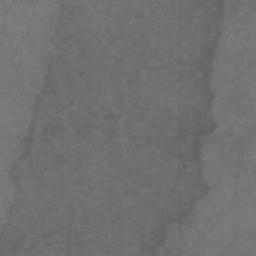Water spot: (0, 0, 232, 256)
